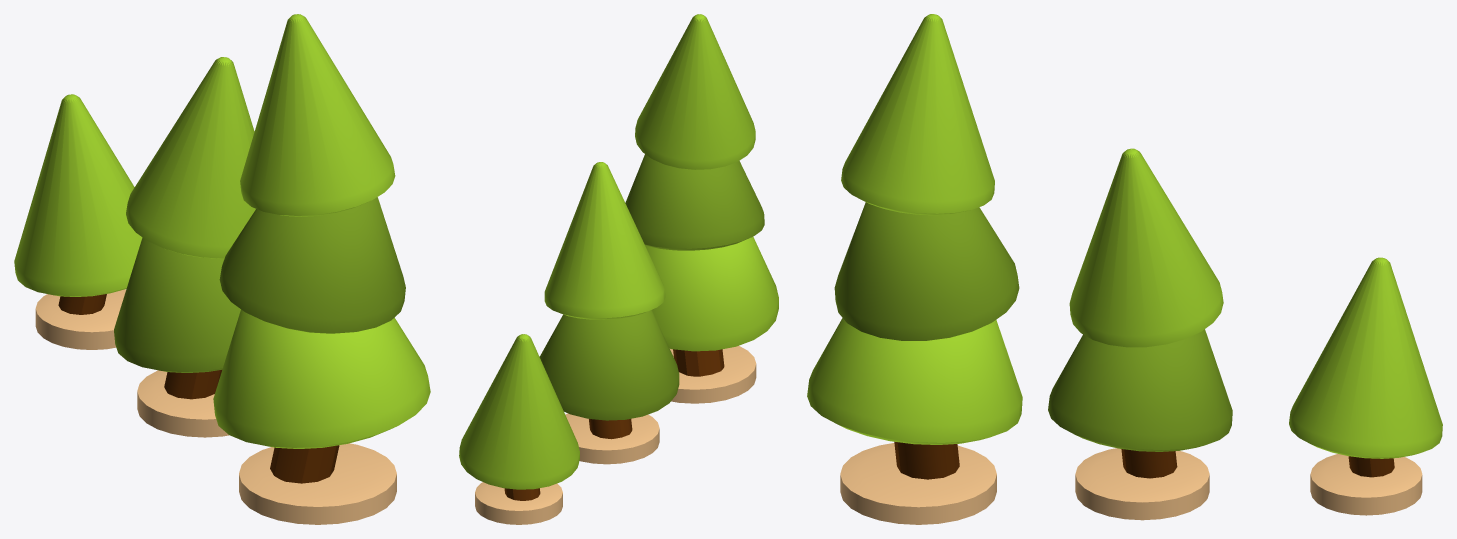
The model's file is Tree_Simple_LowPoly.fbx.
The picture shows the model from 3 angles, left to right: view 1: azimuth 30°, elevation 25°; view 2: azimuth 150°, elevation 25°; view 3: azimuth 270°, elevation 25°; orthographic projection. The views are drawn at different scales.
Visible parts, largest first — view 1: Tree_Large, Tree_Medium, Tree_Small; view 2: Tree_Large, Tree_Medium, Tree_Small; view 3: Tree_Large, Tree_Medium, Tree_Small.
Part boxes in pixels (x1,y1,x2,y2): Tree_Large: (213, 14, 430, 524); Tree_Medium: (114, 57, 255, 437); Tree_Small: (14, 94, 142, 349); Tree_Large: (625, 14, 778, 403); Tree_Medium: (539, 162, 679, 464); Tree_Small: (459, 334, 579, 524); Tree_Large: (807, 14, 1022, 524); Tree_Medium: (1048, 148, 1232, 520); Tree_Small: (1289, 257, 1442, 515).
Size of the model in its own units: 385 by 928 by 1136.
